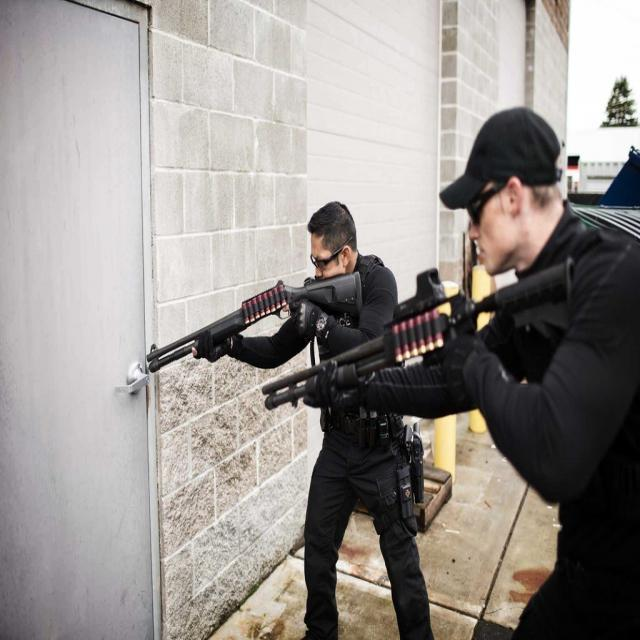weapon: (260, 266, 578, 411), (148, 270, 364, 374)
